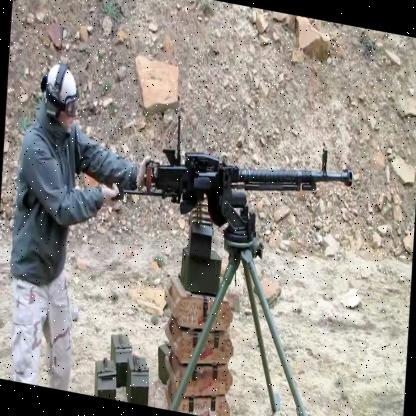rifle: (154, 130, 361, 235)
